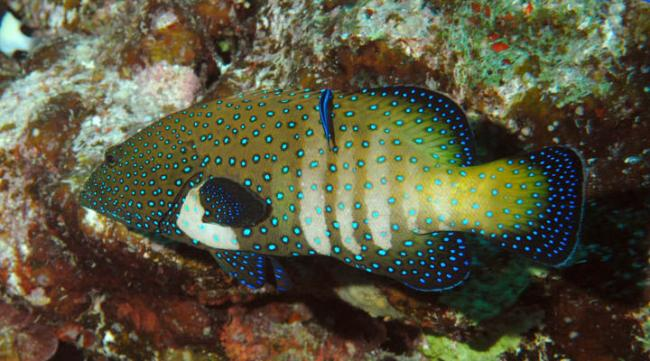fish: (79, 88, 584, 292)
